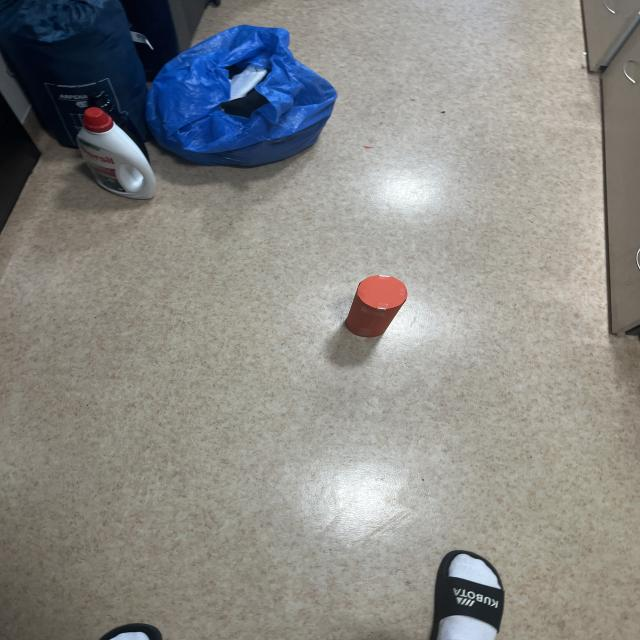przeszkoda: (346, 275, 407, 337)
